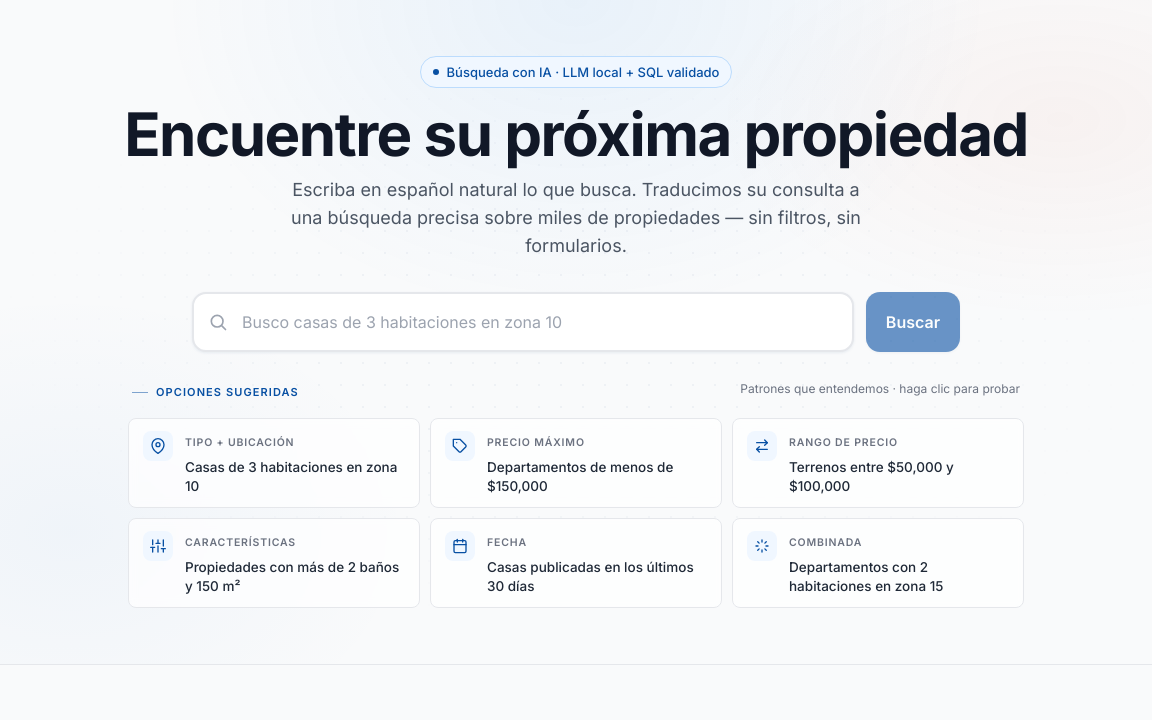
SearchView › runs a search when a suggestion chip is picked
Click the button "Tipo + ubicación Casas de 3 habitaciones en zona 10".
click(274, 463)  # box [128, 418, 420, 508]
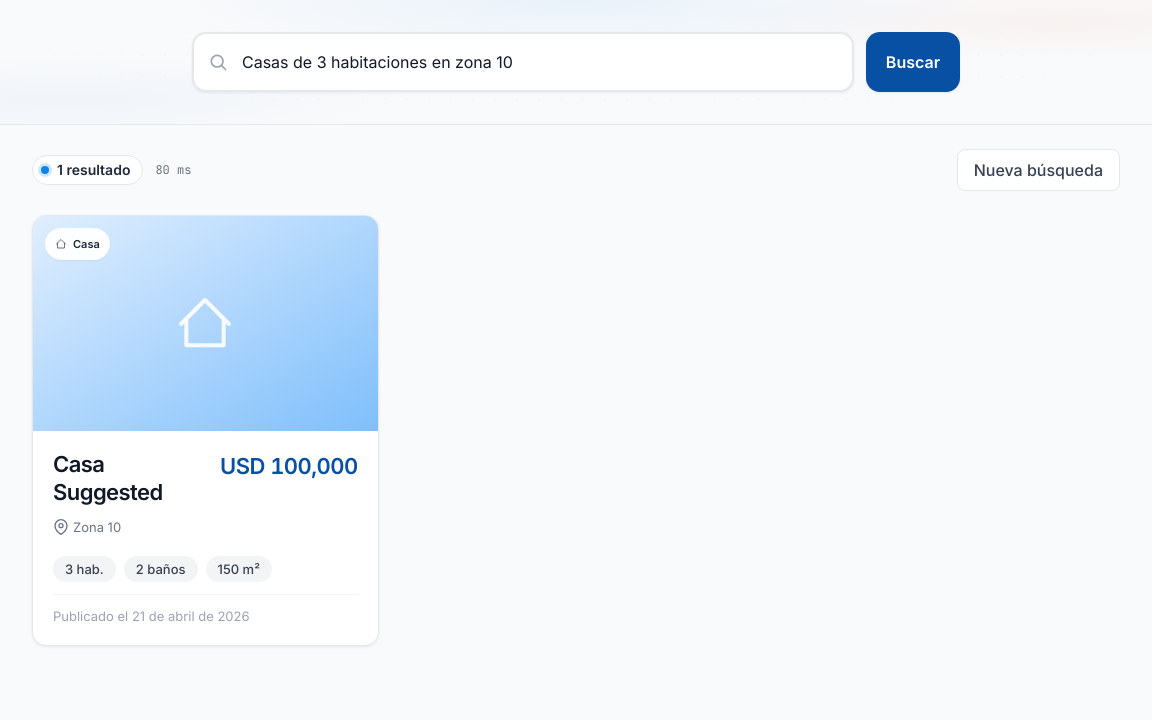
Expected: the search field holds "Casas de 3 habitaciones en zona 10", [192, 32, 854, 92]
Expected: the text "1 resultado" is shown, [32, 155, 143, 185]
Expected: the text "Casa Suggested" is shown, [53, 451, 163, 505]
